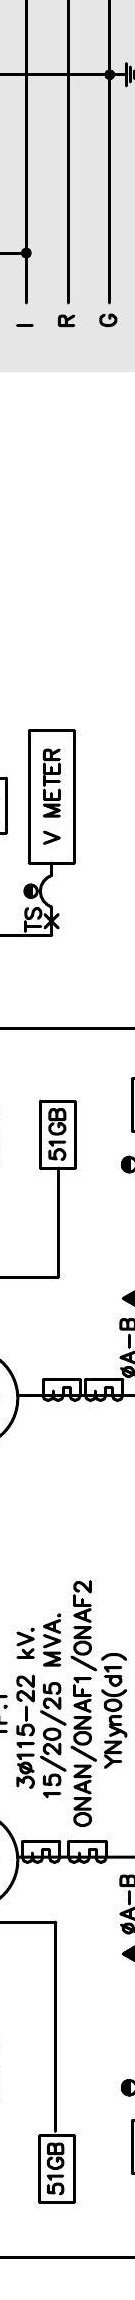v_m_digital: (26, 728, 78, 867)
